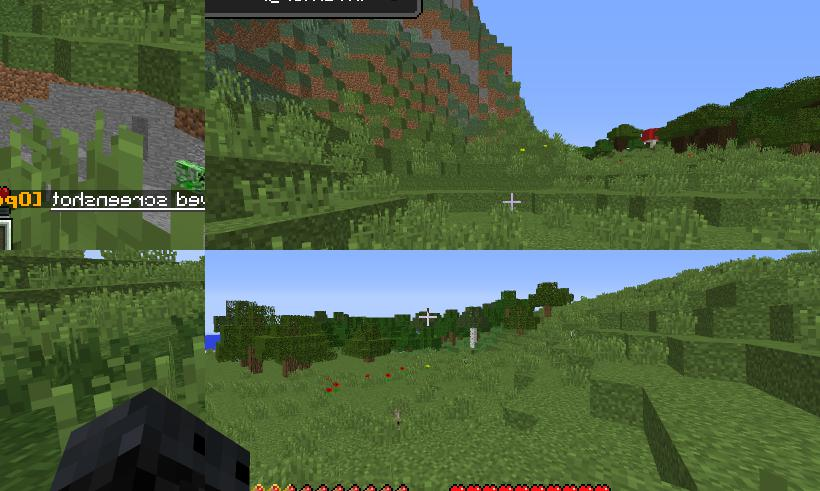minecraft-blocks: (699, 125, 735, 151), (251, 347, 264, 375), (284, 358, 298, 379), (675, 137, 693, 152), (794, 144, 809, 158), (616, 139, 629, 153), (471, 329, 478, 349), (300, 363, 312, 373), (545, 306, 553, 319), (451, 333, 457, 347), (241, 360, 250, 368), (442, 337, 448, 346), (507, 309, 512, 319), (519, 329, 524, 337)
